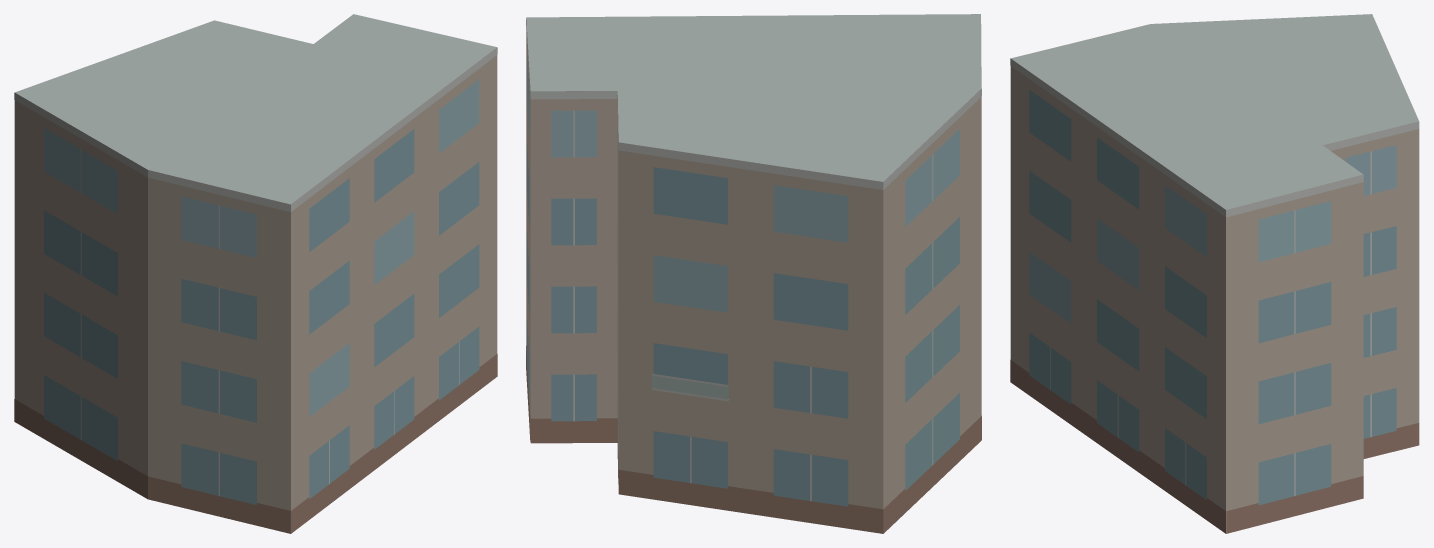
File: survey-upis-32463229.glb
The picture shows the model from 3 angles, left to right: view 1: azimuth 30°, elevation 25°; view 2: azimuth 150°, elevation 25°; view 3: azimuth 270°, elevation 25°; orthographic projection. The views are drawn at different scales.
Visible parts, largest first — view 1: survey-upis-32463229.tmp; view 2: survey-upis-32463229.tmp; view 3: survey-upis-32463229.tmp.
Boxes of the visible parts, x1,y1,x2,y2 form: survey-upis-32463229.tmp: (14, 14, 497, 533); survey-upis-32463229.tmp: (526, 14, 981, 533); survey-upis-32463229.tmp: (1010, 14, 1419, 533).
Size of the model in its own units: 13.76 by 10.6 by 12.13.
